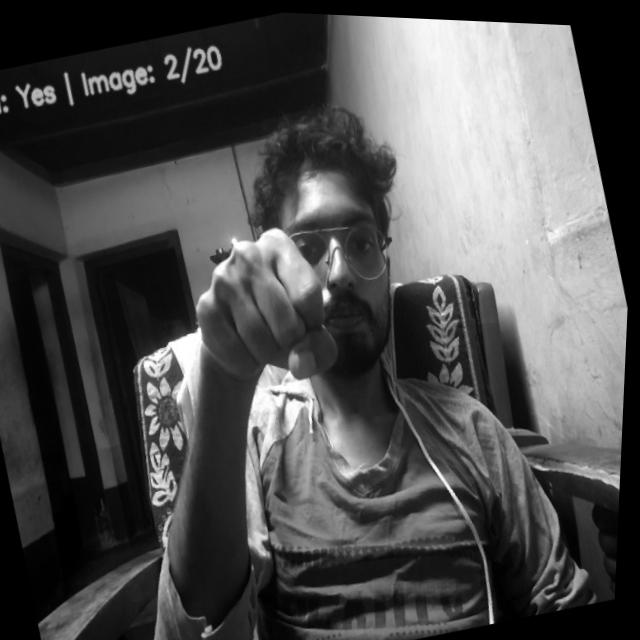Yes: (165, 206, 361, 405)
